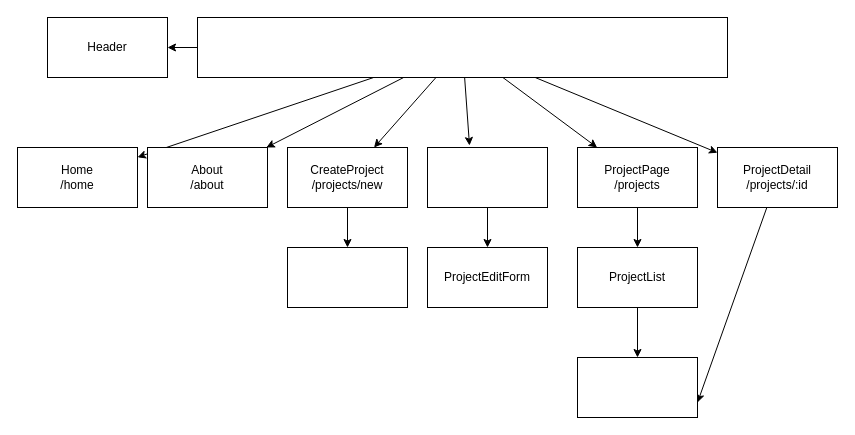
This 855x435 diagram has some shape labels left out. Each missing label, with the centre of its shape:
"App" belongs at point 462,47.
"EditProject /projects/:id/edit" belongs at point 487,177.
"ProjectForm" belongs at point 347,277.
"ProjectListItem" belongs at point 637,387.
